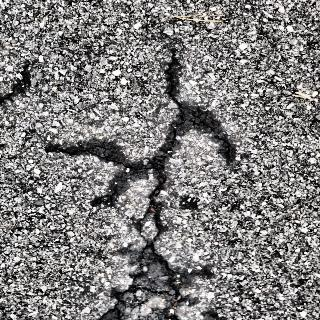crack: (62, 47, 236, 320)
